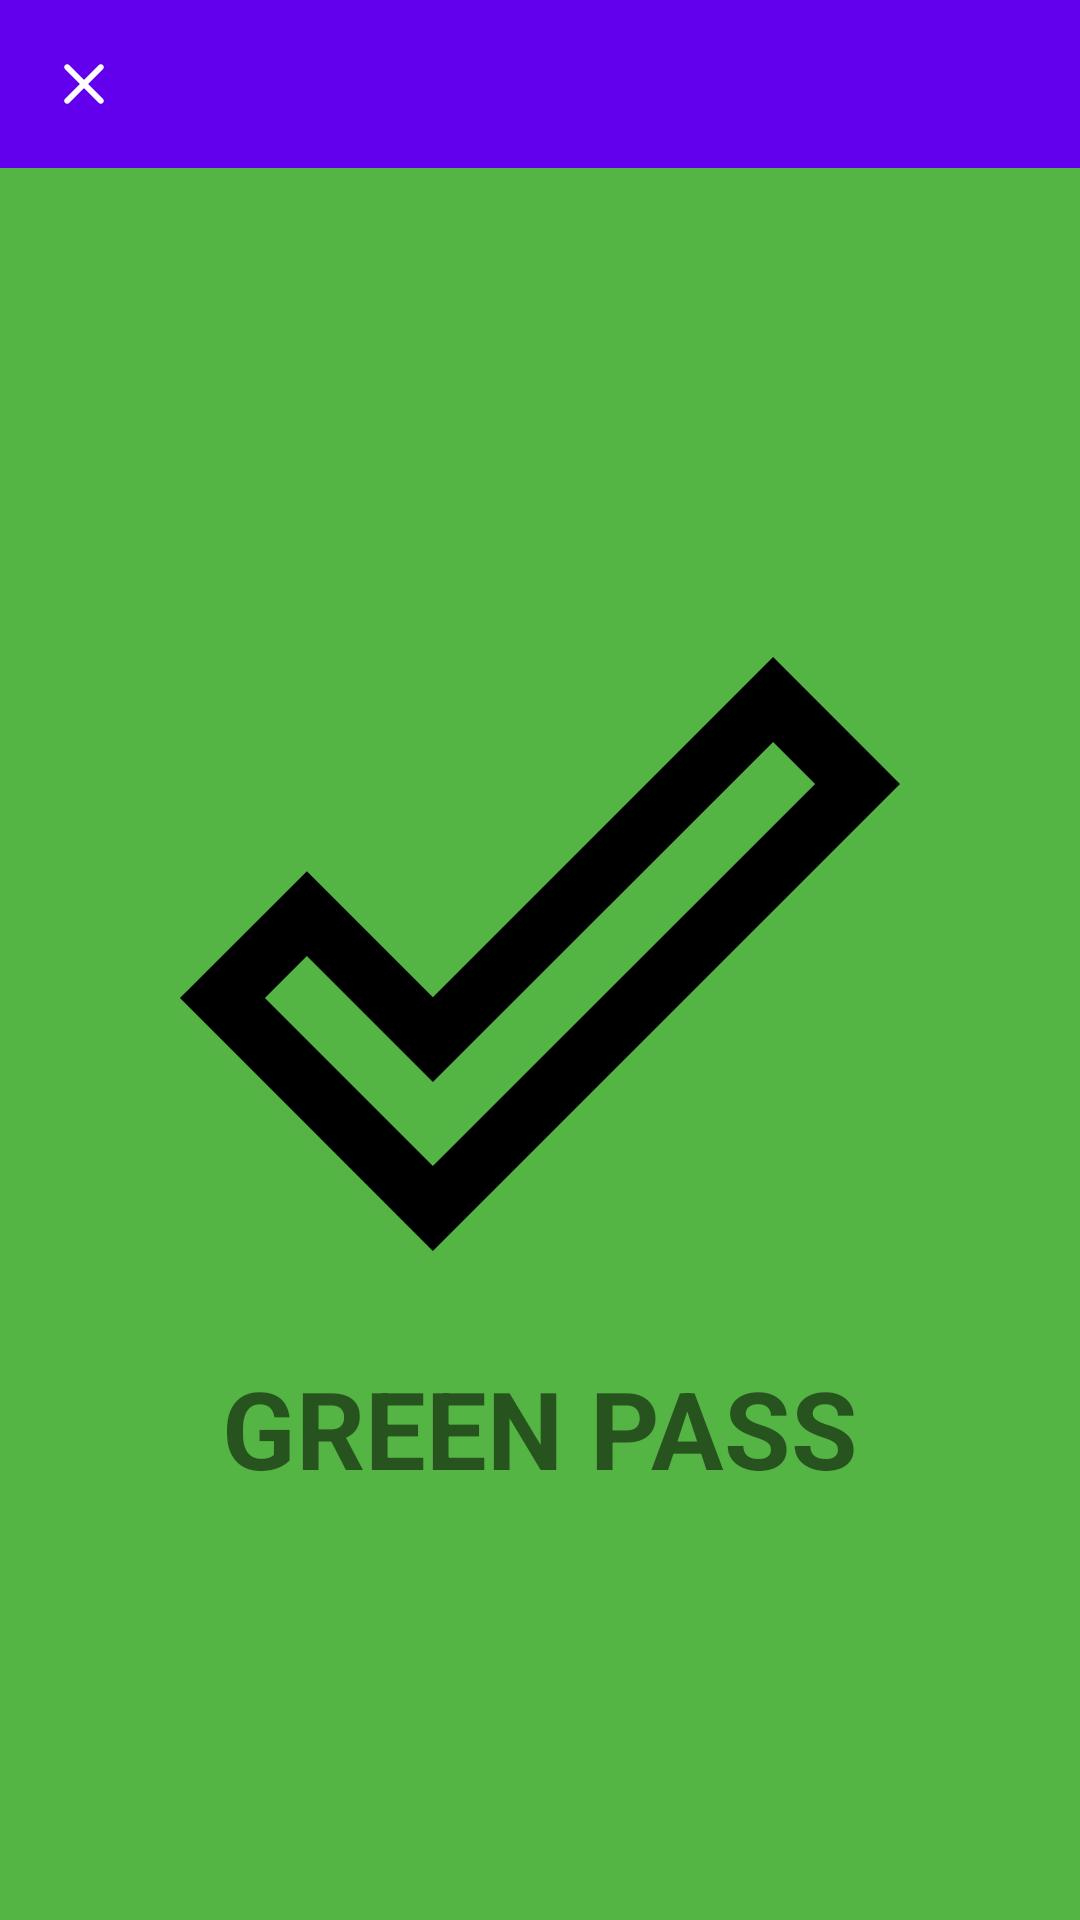

Screen size 1080 x 1920. Icon name, then its box in pixels as (x1, y1, x2, y2):
close: (64, 64, 104, 104)
